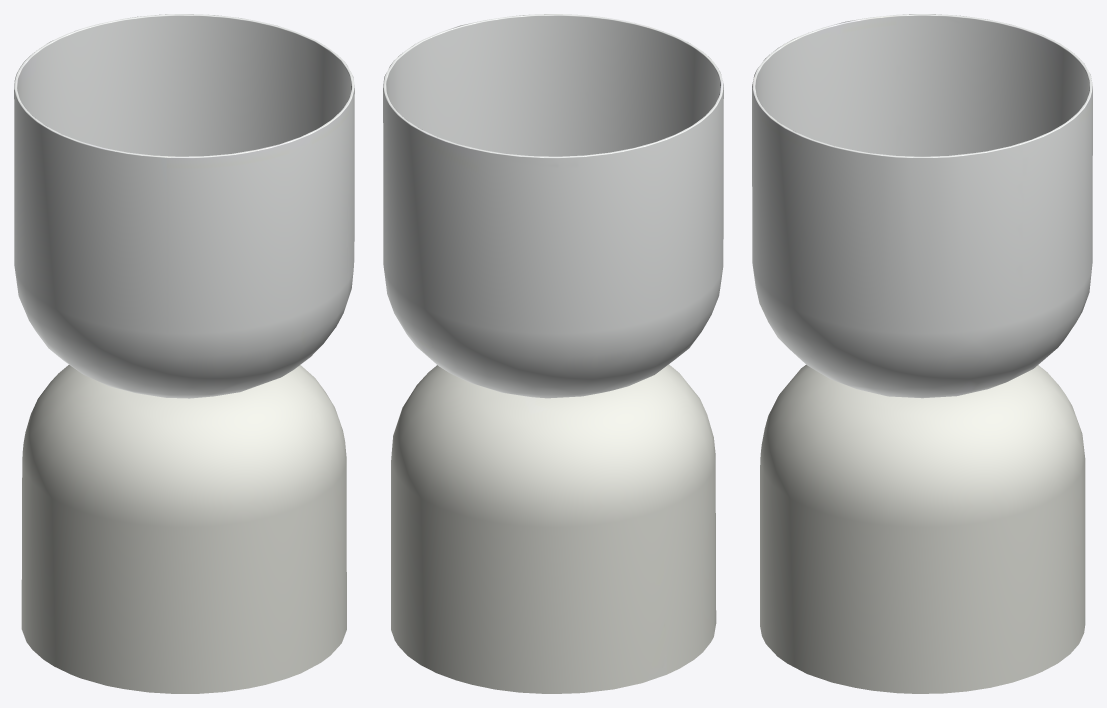
Rendered from hamnfyr_lampa_sufitowa_40573539.glb.
3 views of the same model, side by side, from view 1: azimuth 30°, elevation 25°; view 2: azimuth 150°, elevation 25°; view 3: azimuth 270°, elevation 25° (orthographic).
Parts seen in each view (by area): view 1: hamnfyr_lampa_sufitowa_40573539; view 2: hamnfyr_lampa_sufitowa_40573539; view 3: hamnfyr_lampa_sufitowa_40573539.
Part boxes in pixels (<box>): hamnfyr_lampa_sufitowa_40573539: <box>14,14,354,693</box>; hamnfyr_lampa_sufitowa_40573539: <box>383,14,723,693</box>; hamnfyr_lampa_sufitowa_40573539: <box>752,14,1092,693</box>.
Size of the model in its own units: 0.1358 by 0.2375 by 0.1359.
Materials: 1 (1 with a texture image).
